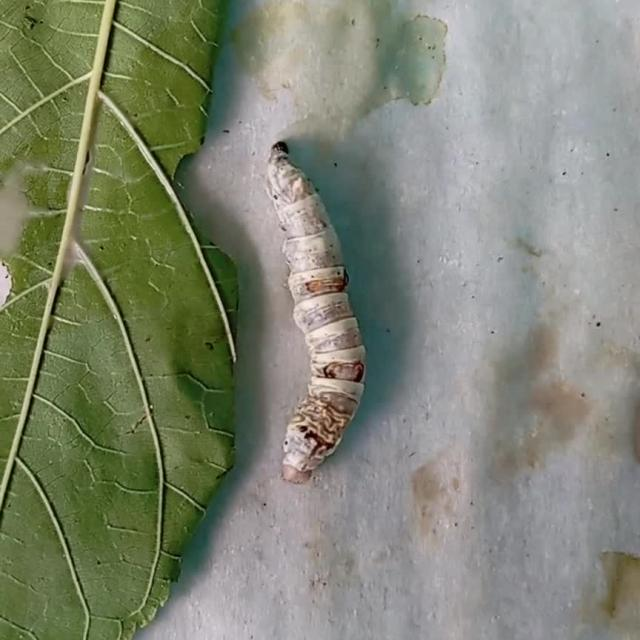Grasserie: (228, 118, 404, 504)
